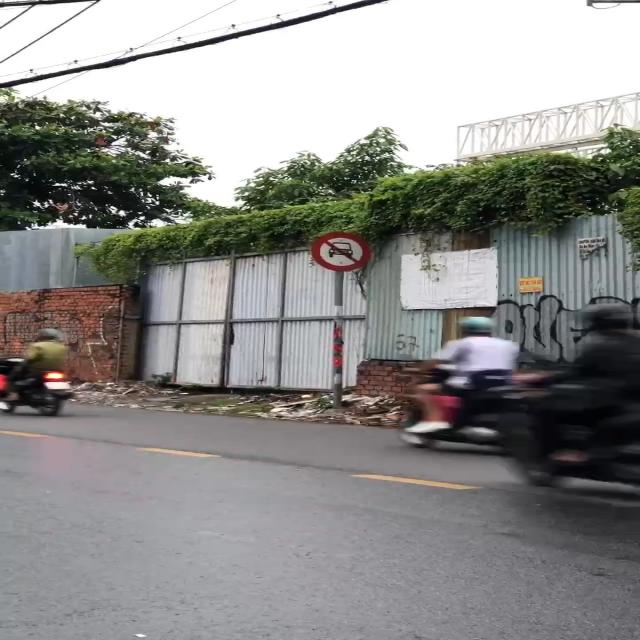Bien bao cam xe oto: (306, 227, 376, 273)
